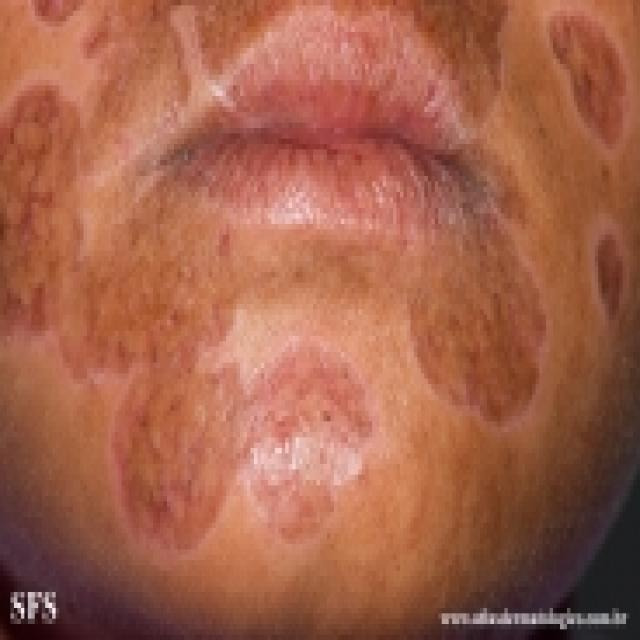lupus: (2, 77, 640, 544)
